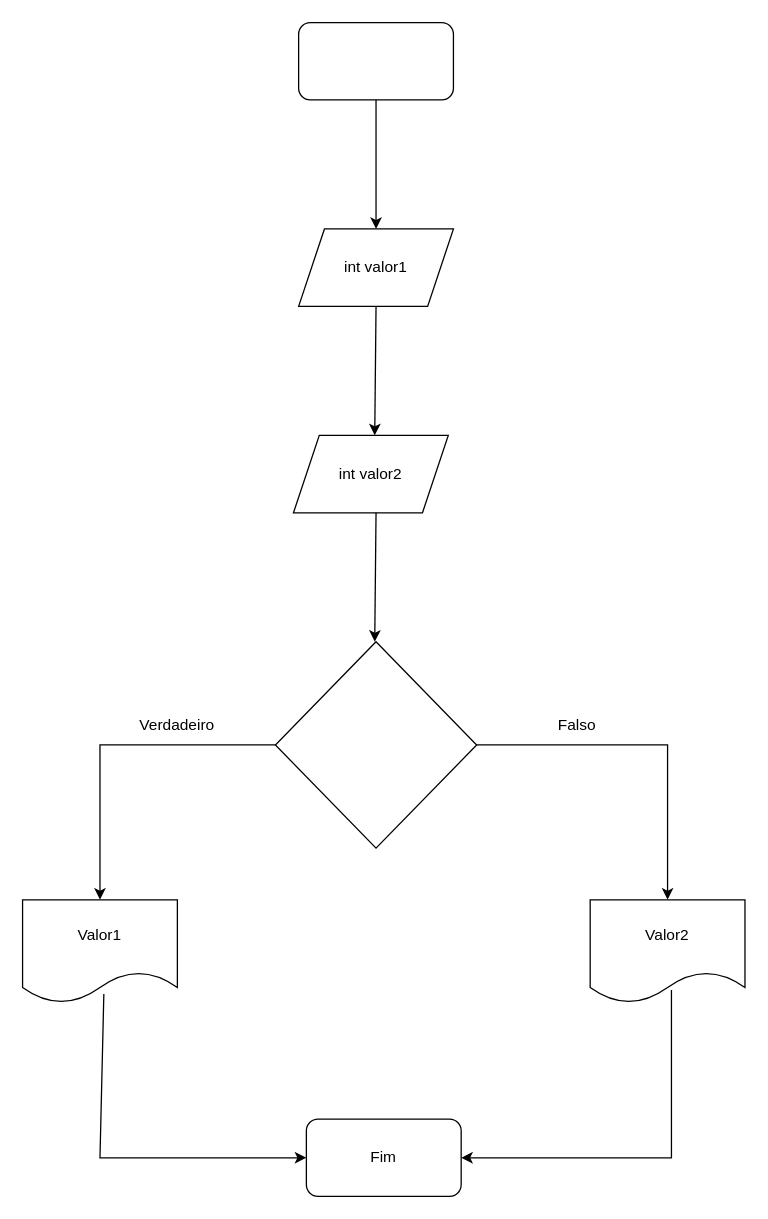
Image size: 768x1219. Some labels were removed from this diagram. Each missing label, with the centre of its shape:
"Início" goes at point (375, 60).
"Valor1 > Valor2" goes at point (375, 744).
